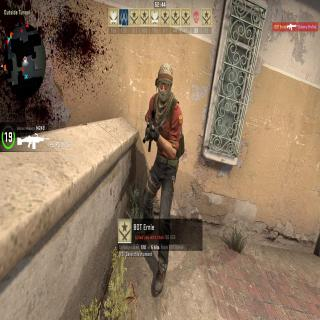T-Body: (137, 60, 187, 297)
T-Head: (156, 64, 174, 102)
